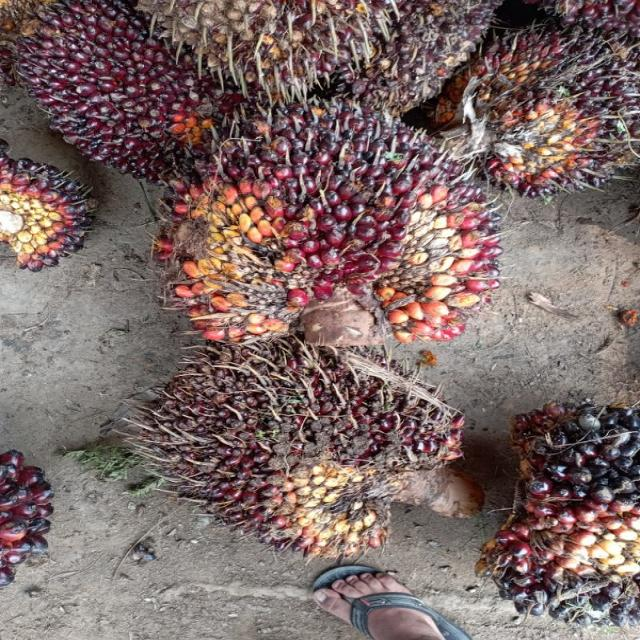fraksi 00: (442, 13, 640, 200), (501, 399, 640, 621), (0, 137, 114, 282)
fraksi 1: (151, 96, 503, 352), (136, 353, 469, 551), (11, 0, 202, 155)
